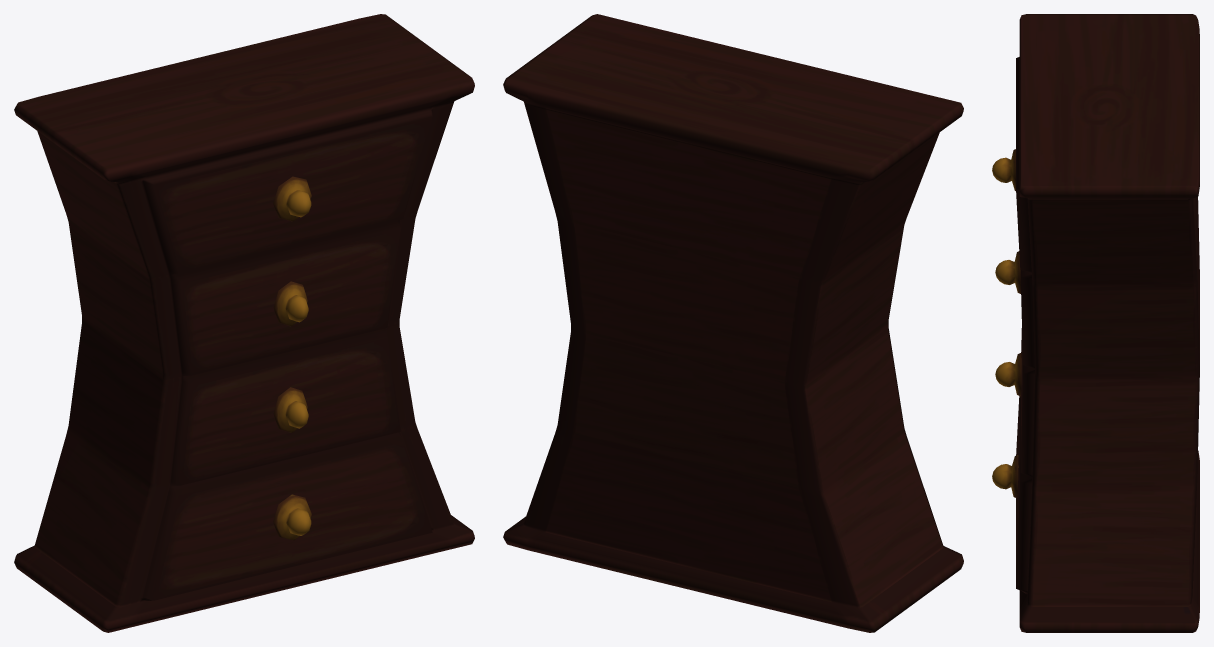
The model's file is Tallboy_3.fbx.
3 renders of one model, left to right at view 1: azimuth 30°, elevation 25°; view 2: azimuth 150°, elevation 25°; view 3: azimuth 270°, elevation 25°, orthographic. The views are drawn at different scales.
Visible parts, largest first — view 1: WonkyTallboy_Squish; view 2: WonkyTallboy_Squish; view 3: WonkyTallboy_Squish.
Part boxes in pixels (x1,y1,x2,y2): WonkyTallboy_Squish: (14, 14, 474, 632); WonkyTallboy_Squish: (503, 14, 963, 632); WonkyTallboy_Squish: (992, 14, 1199, 632).
Bounding box in the file's own units: 5.76 × 6.86 × 2.9.
